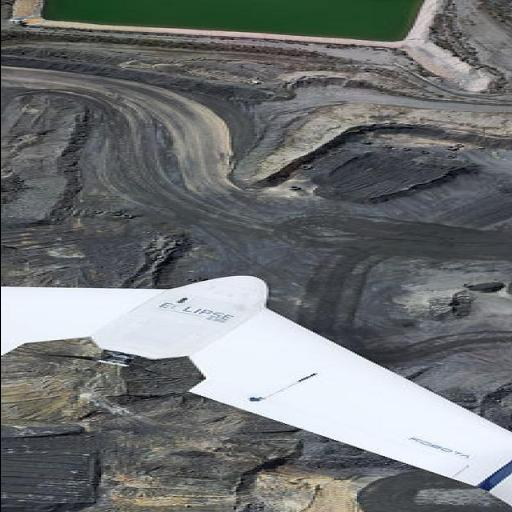uav: (0, 274, 499, 451)
